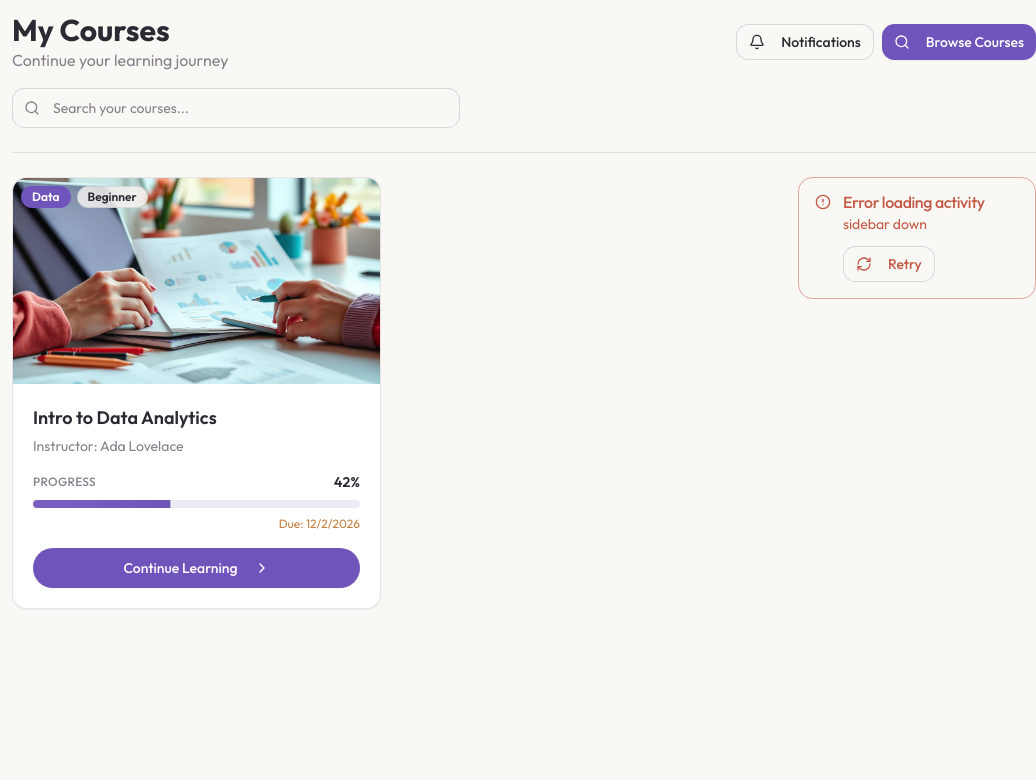
Test: EnrolledCoursesDashboard › renders an inline sidebar error while the main course list still renders
The image size is (1036, 780).
Expected: the heading "Error loading activity" is shown, [843, 192, 985, 212]
Expected: the text "sidebar down" is shown, [843, 215, 927, 233]
Click the button "Retry": {"x": 889, "y": 264} [843, 246, 935, 282]
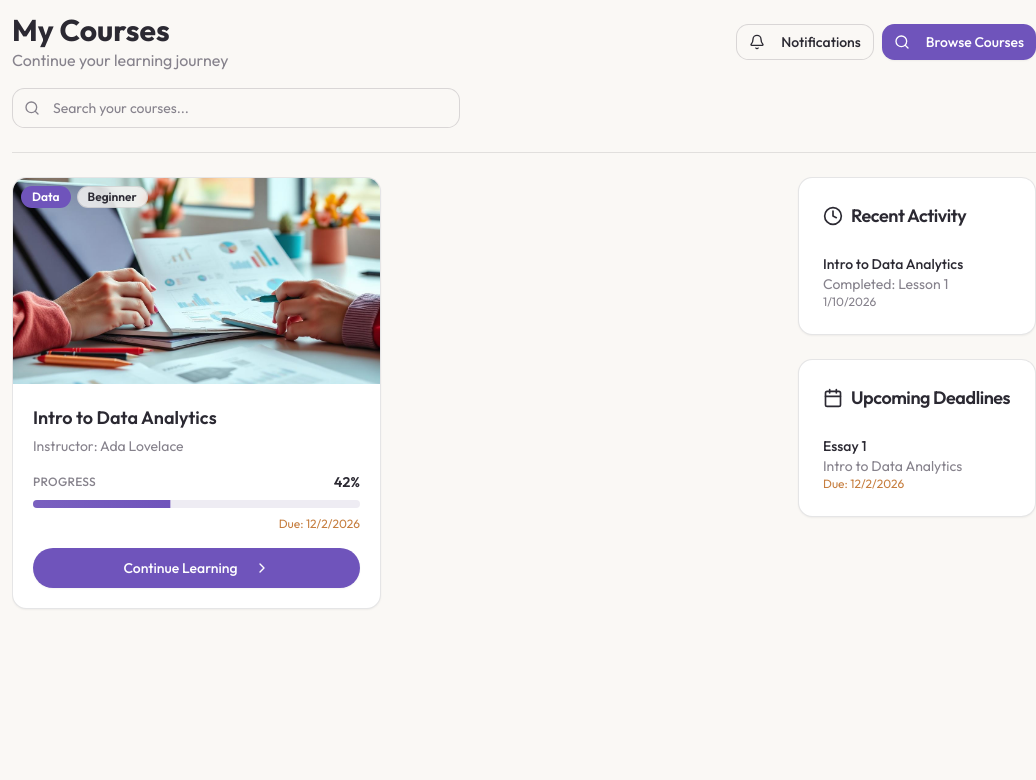
Expected: the text "Completed: Lesson 1" is shown, [823, 275, 948, 293]
Expected: the heading "Error loading activity" is gone
